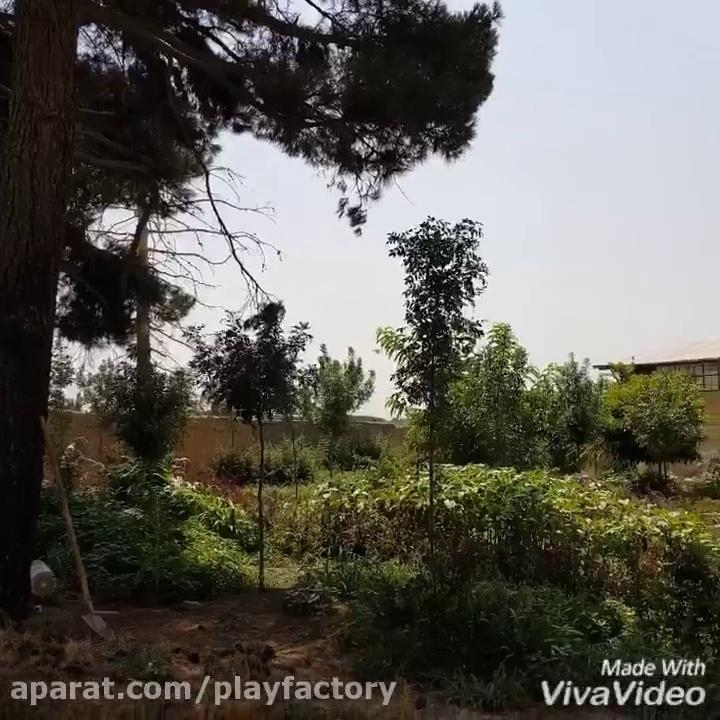drone: (370, 343, 382, 359)
